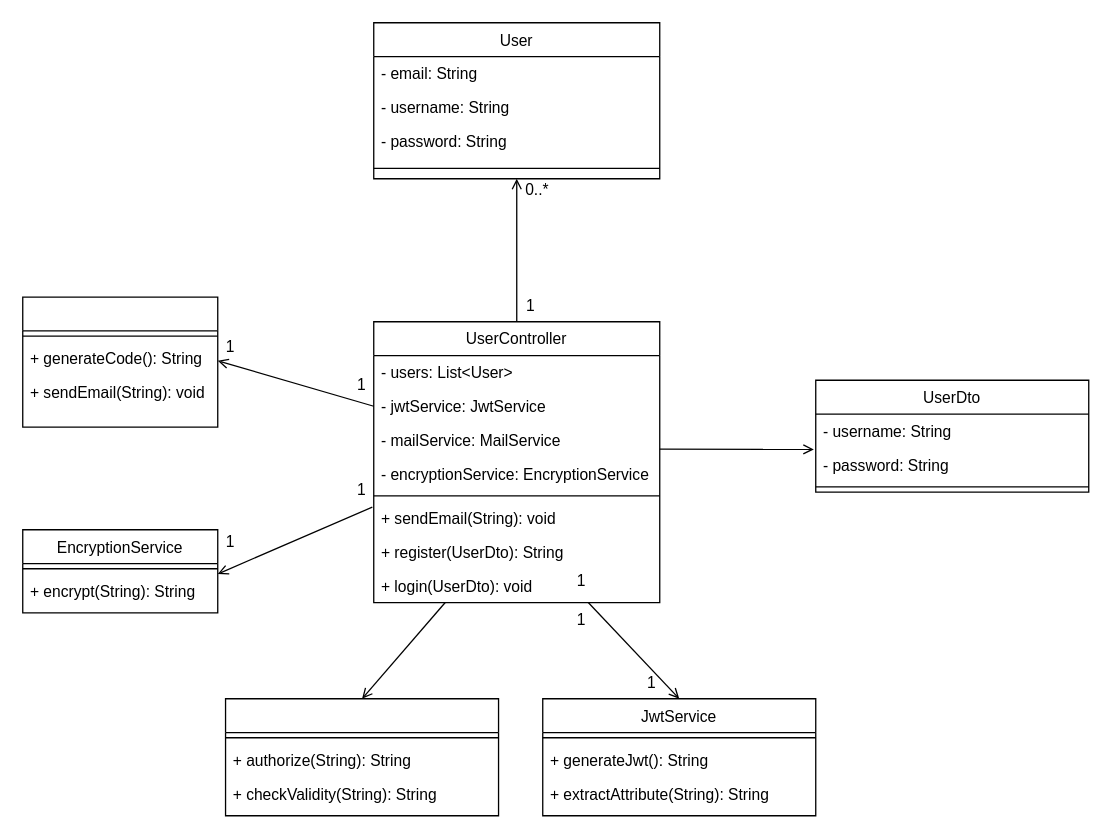
Some shapes in this 1112 by 838 pixel diagram are drawn without their labels. Each missing label, with the box of its shape:
JwtMiddleware: (224, 697, 499, 816)
MailService: (21, 296, 218, 427)
